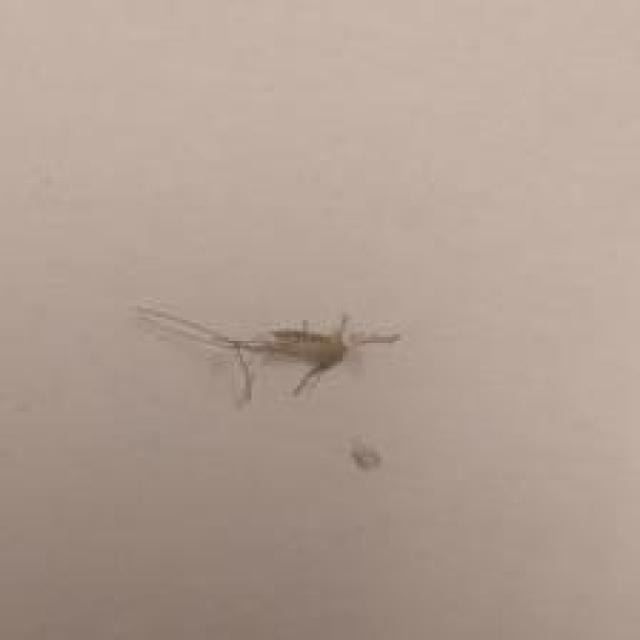Culex: (134, 302, 403, 407)
